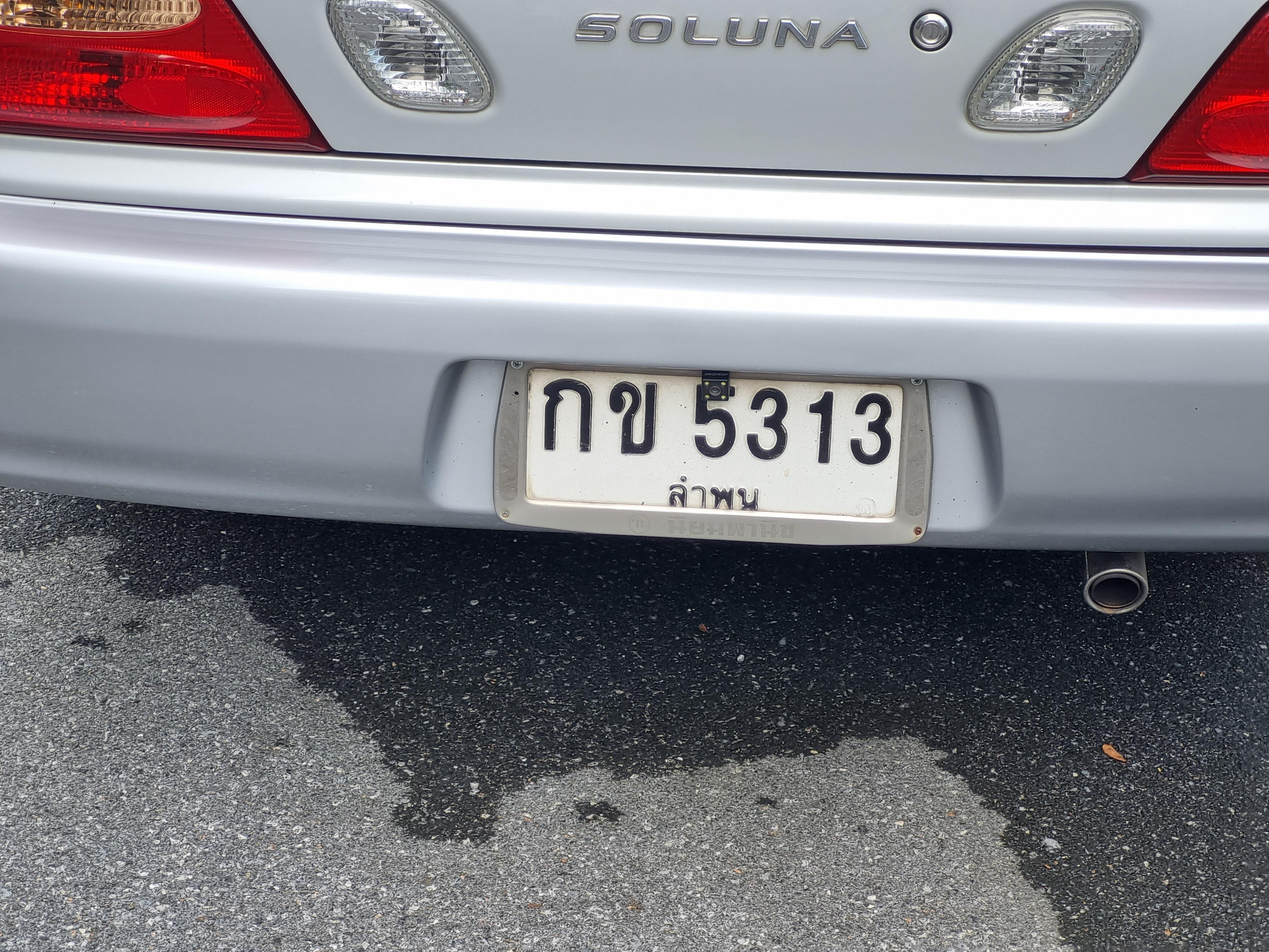license-plate: (489, 351, 934, 541)
